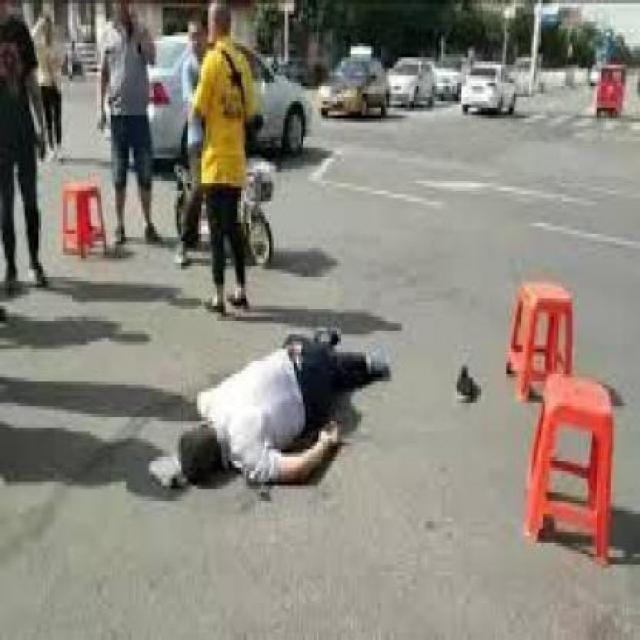fall: (158, 291, 398, 492)
